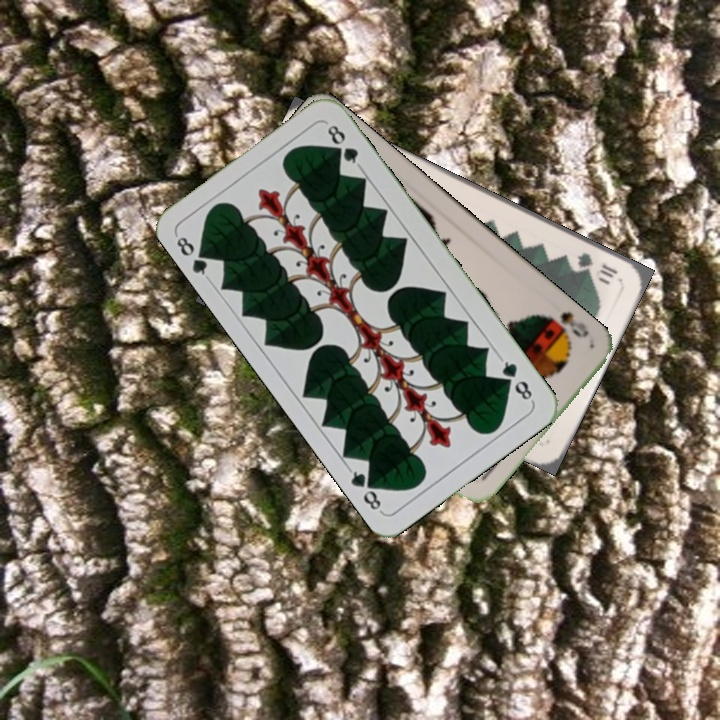G10: (573, 248, 621, 281)
G8: (171, 231, 215, 282), (495, 354, 536, 405)
SO: (538, 307, 592, 341)
